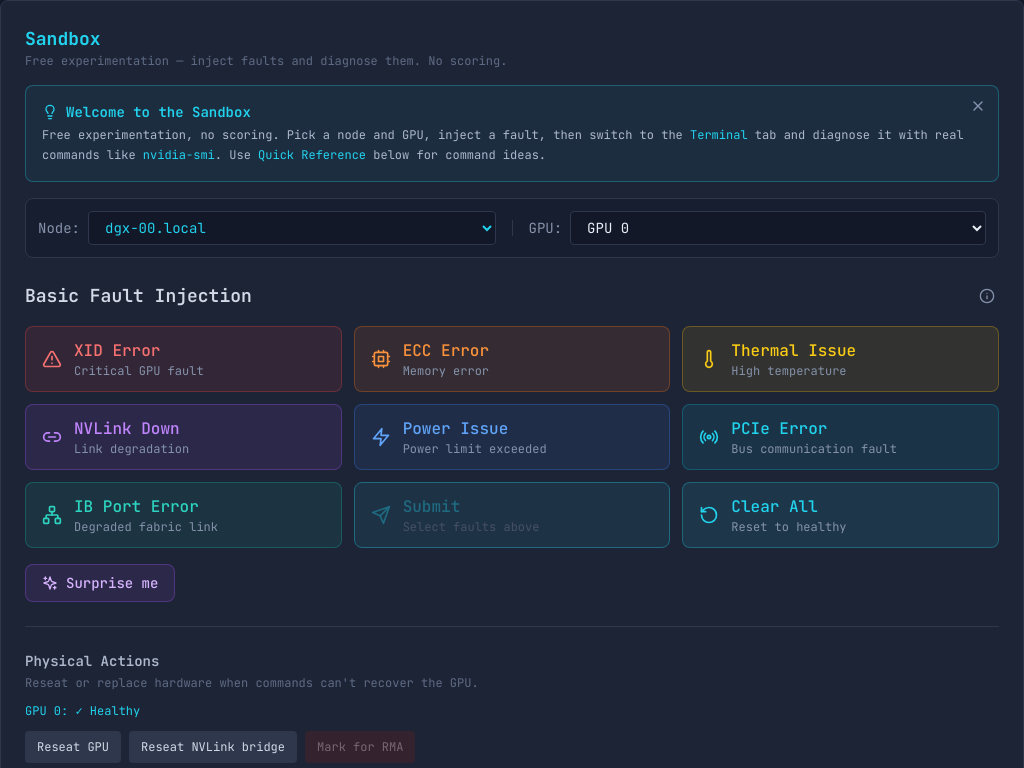
Test: FaultInjection › Basic Fault Injection › clears the staged selection after a successful Submit
Click the text "XID Error".
click(117, 350)  # box [74, 340, 160, 361]
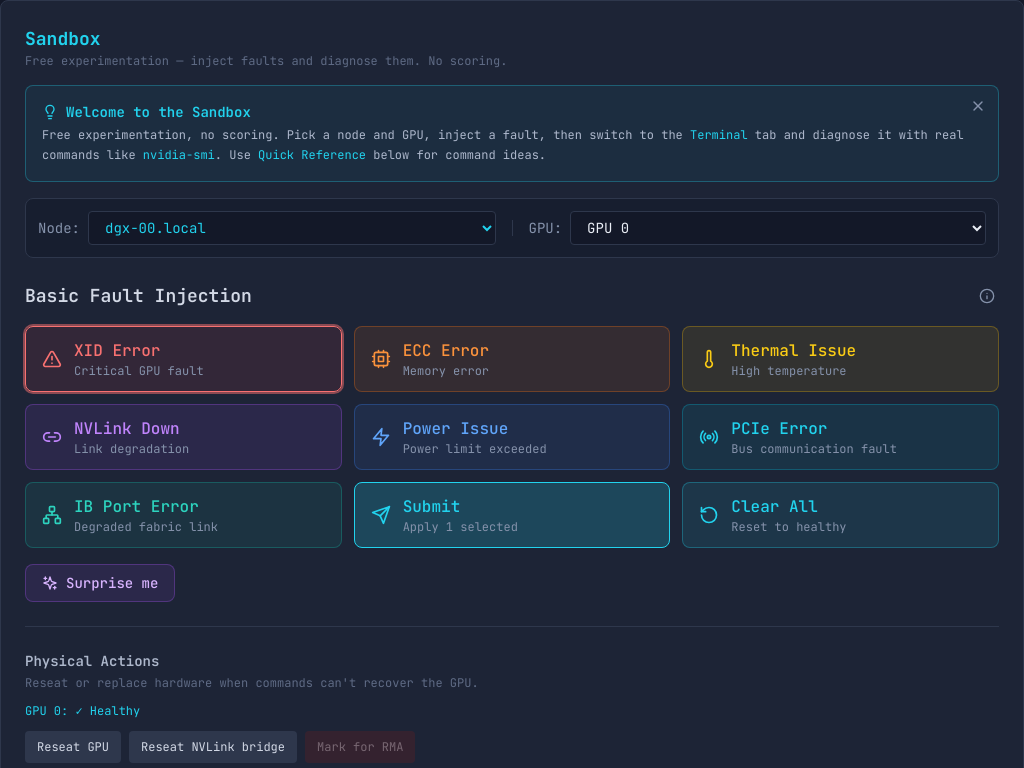
Click the button with aria-label "Submit selected faults".
click(431, 506)  # box [354, 482, 670, 548]
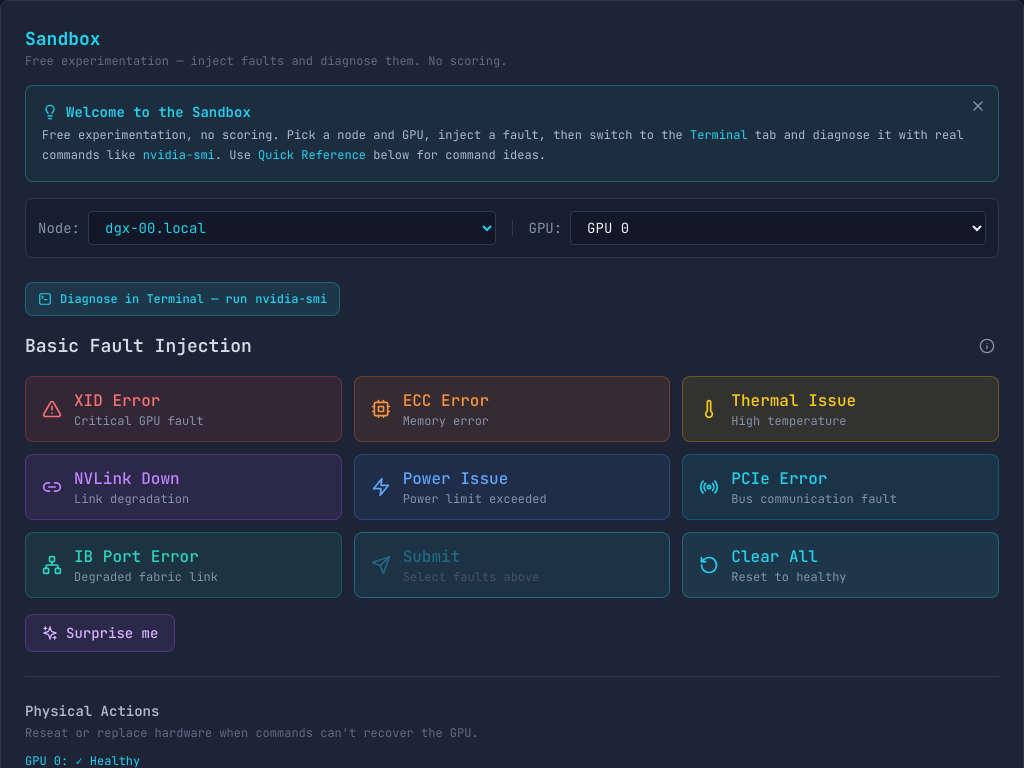
Now the button with aria-label "Submit selected faults" is disabled, box [354, 532, 670, 598]
